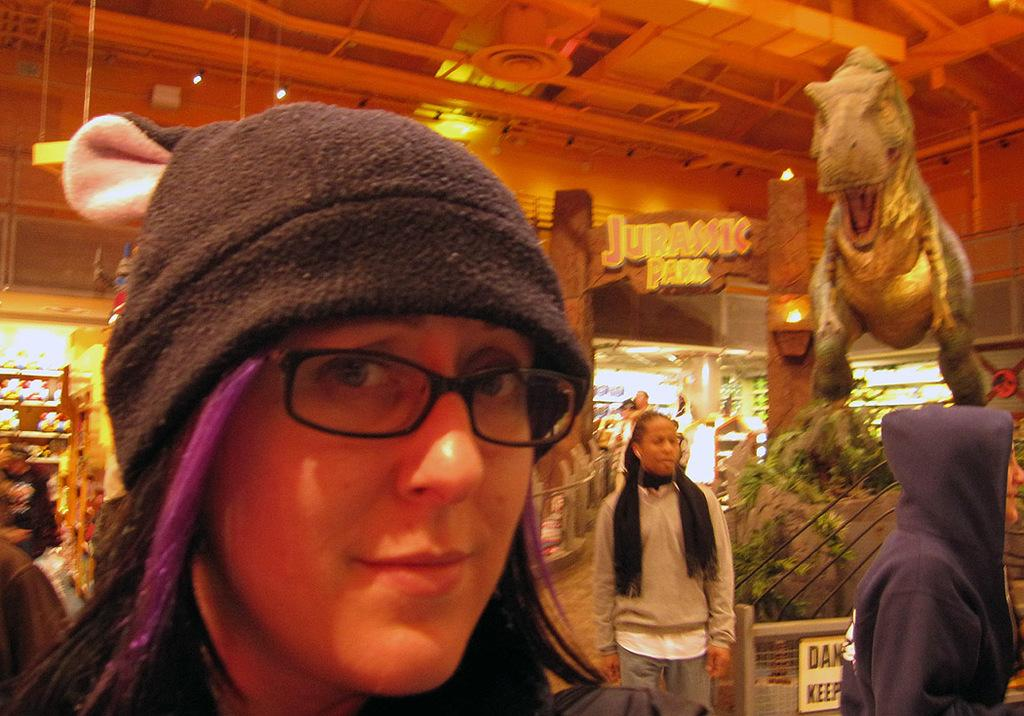Hat: (35, 93, 579, 534)
